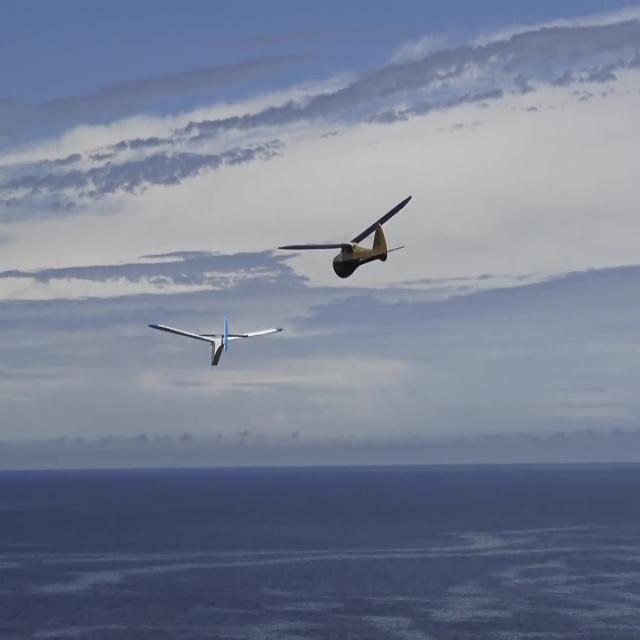iha: (152, 313, 280, 366), (280, 225, 409, 247)
